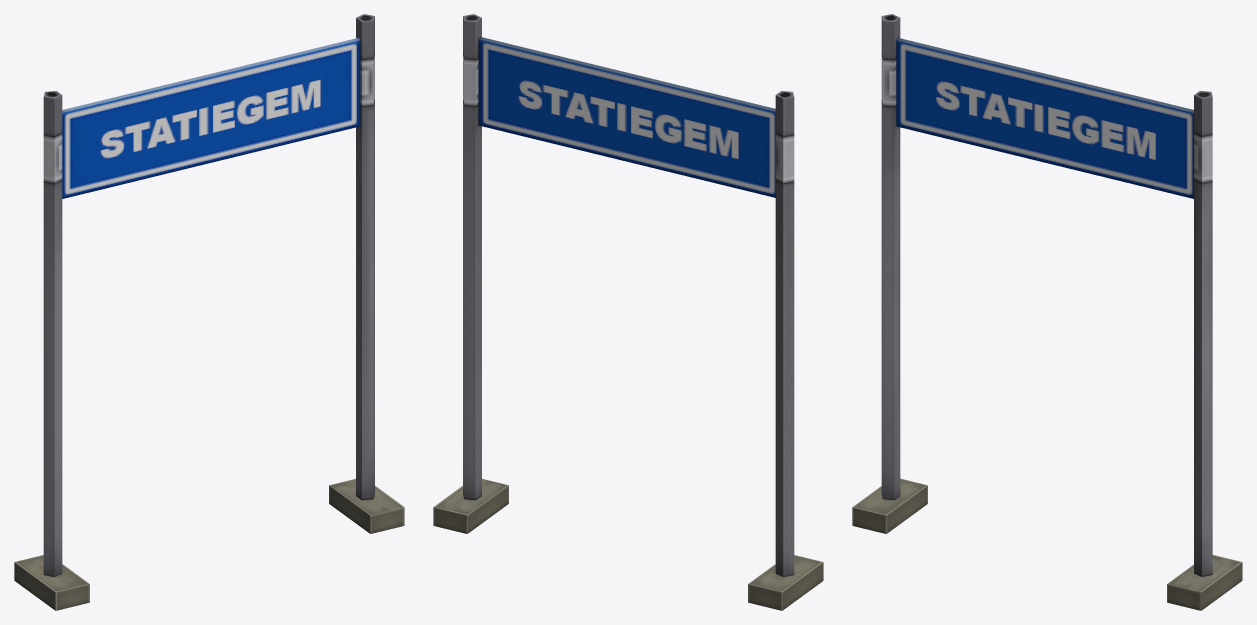
File: StationNaamBord_STATIEGEM.FBX
3 renders of one model, left to right at view 1: azimuth 30°, elevation 25°; view 2: azimuth 150°, elevation 25°; view 3: azimuth 330°, elevation 25°, orthographic.
Visible parts, largest first — view 1: StationsNaambord; view 2: StationsNaambord; view 3: StationsNaambord.
Boxes of the visible parts, x1,y1,x2,y2 form: StationsNaambord: [14, 14, 404, 610]; StationsNaambord: [433, 14, 823, 610]; StationsNaambord: [852, 14, 1242, 610].
Bounding box in the file's own units: 100 × 136 × 20.59.
Materials: 1 (1 with a texture image).
